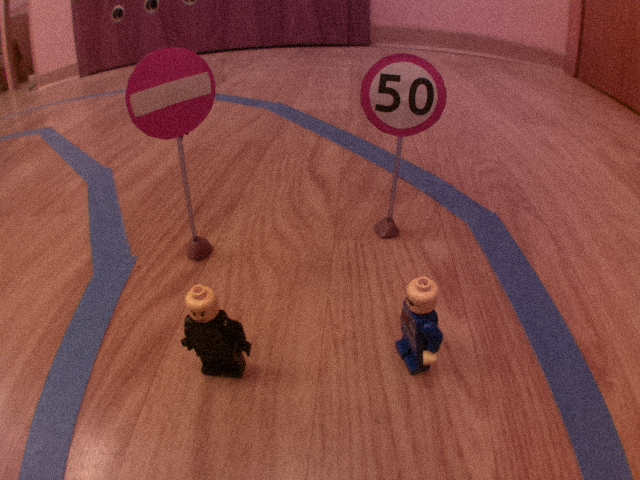LEGO_person: (177, 282, 257, 382), (389, 273, 445, 382)
ogr_50: (358, 52, 449, 138)
zakaz: (124, 46, 218, 141)
